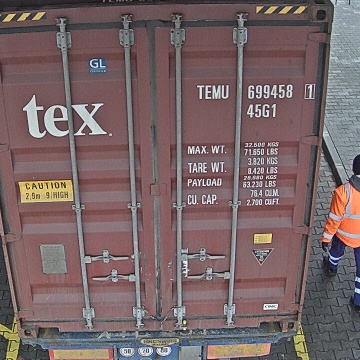serial_id: (196, 84, 313, 99)
